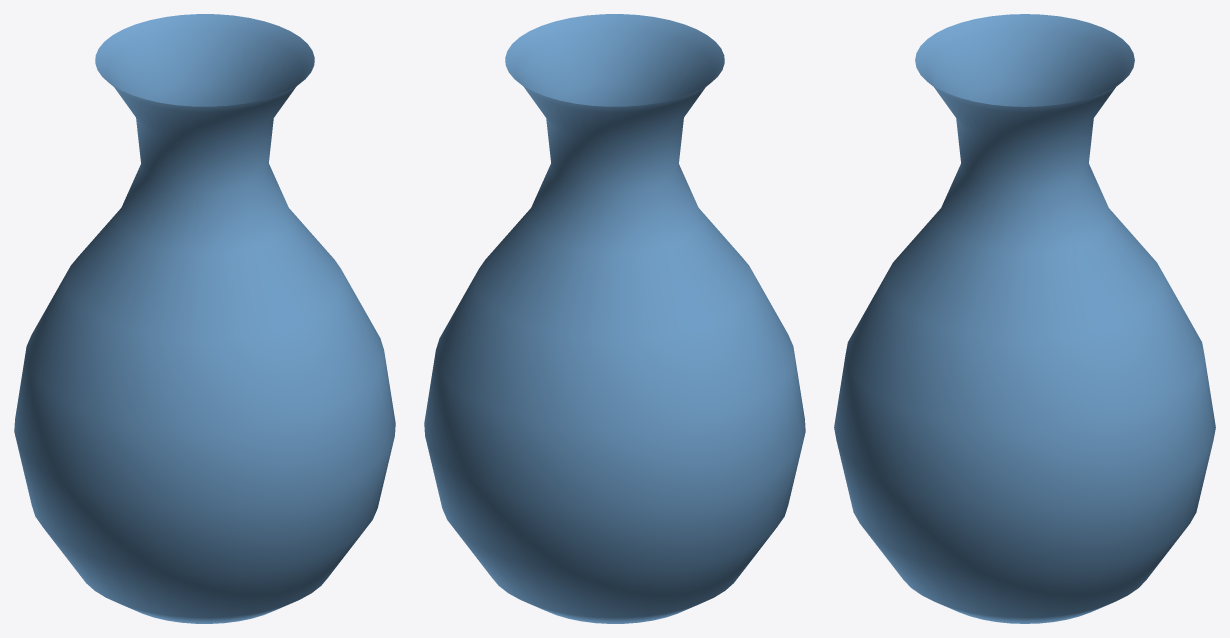
Rendered from vase.glb.
3 renders of one model, left to right at view 1: azimuth 30°, elevation 25°; view 2: azimuth 150°, elevation 25°; view 3: azimuth 270°, elevation 25°, orthographic.
Parts seen in each view (by area): view 1: Vase; view 2: Vase; view 3: Vase.
Part boxes in pixels (<box>): Vase: <box>14,14,395,623</box>; Vase: <box>424,14,805,623</box>; Vase: <box>834,14,1215,623</box>.
Size of the model in its own units: 0.66 by 1 by 0.66.
